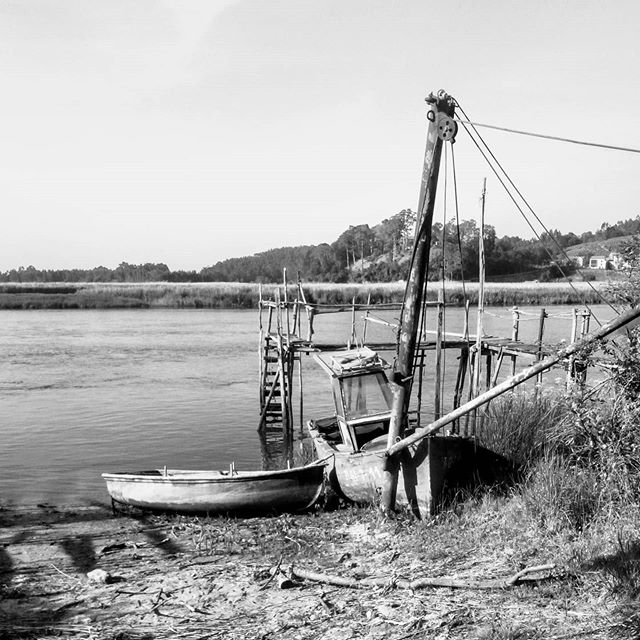boat: (293, 351, 473, 524), (99, 444, 336, 522)
sea: (15, 309, 640, 478)
sky: (14, 1, 640, 252)
